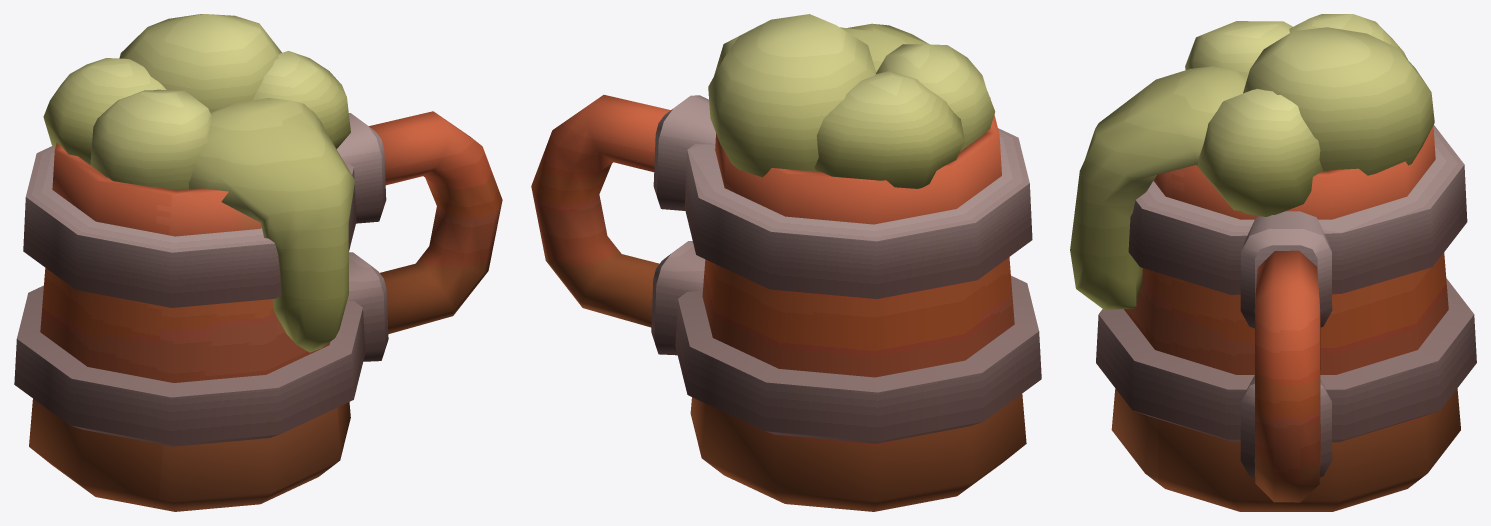
File: Beer.fbx
3 views of the same model, side by side, from view 1: azimuth 30°, elevation 25°; view 2: azimuth 150°, elevation 25°; view 3: azimuth 270°, elevation 25° (orthographic). The views are drawn at different scales.
Visible parts, largest first — view 1: Cube.222; view 2: Cube.222; view 3: Cube.222.
Boxes of the visible parts, <box> form: Cube.222: <box>14,14,502,511</box>; Cube.222: <box>531,14,1041,511</box>; Cube.222: <box>1070,14,1476,511</box>.
Bounding box in the file's own units: 0.7356 × 0.6265 × 0.5367.
